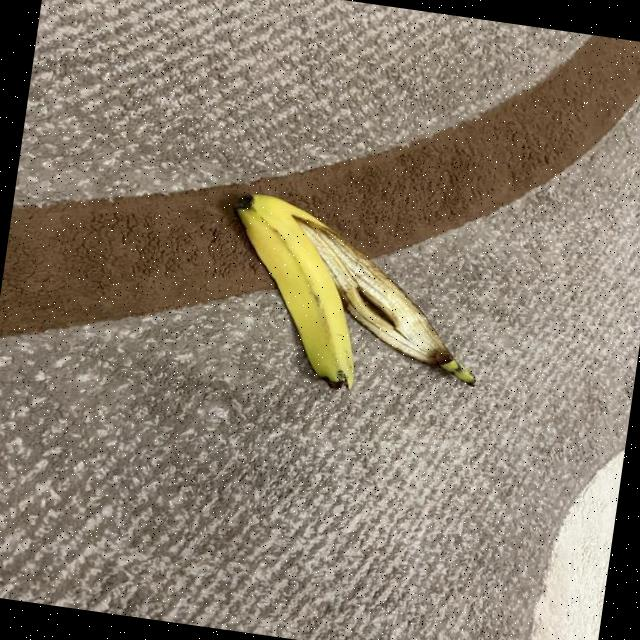banana-peel: (210, 188, 498, 409)
